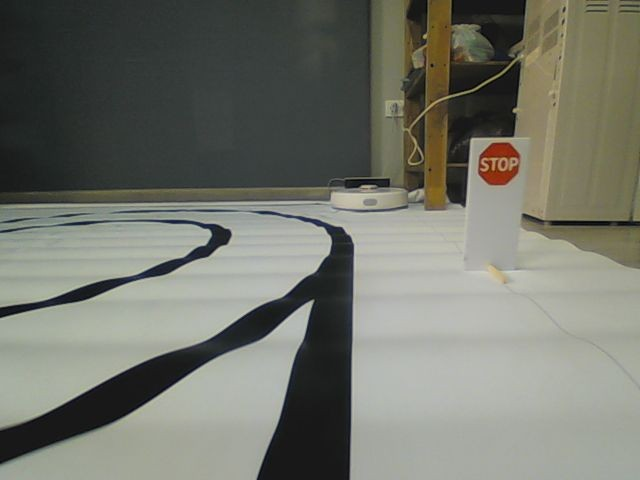Stop: (476, 138, 524, 188)
